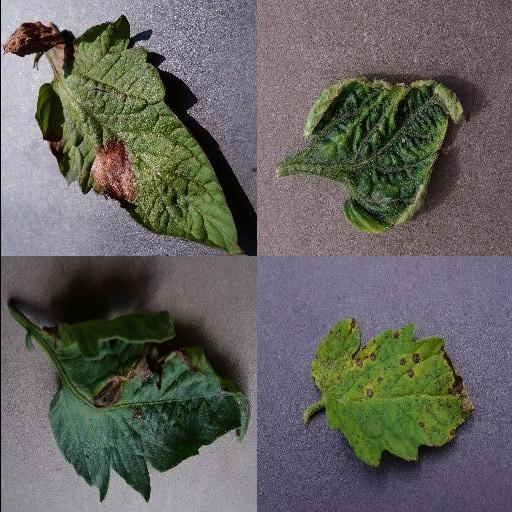Early Blight: (44, 312, 250, 500)
Late Blight: (0, 14, 243, 256)
Septoria: (311, 321, 475, 468)
Yellow Leaf Curl Virus: (302, 77, 468, 232)
